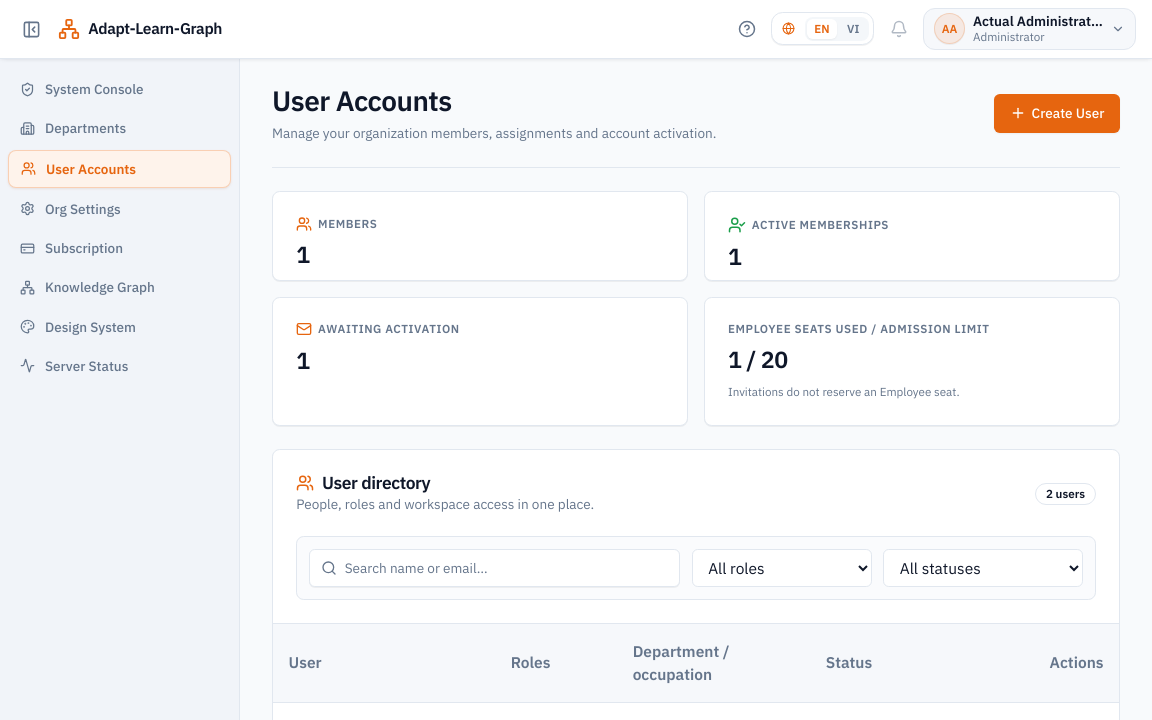
Test: Administrator page ownership › lists real members and invitations with detail, search and status filters
Type "employee@example.test" into the field named "Search users" at [494, 568], box [309,549,680,588]
(page scrolled)
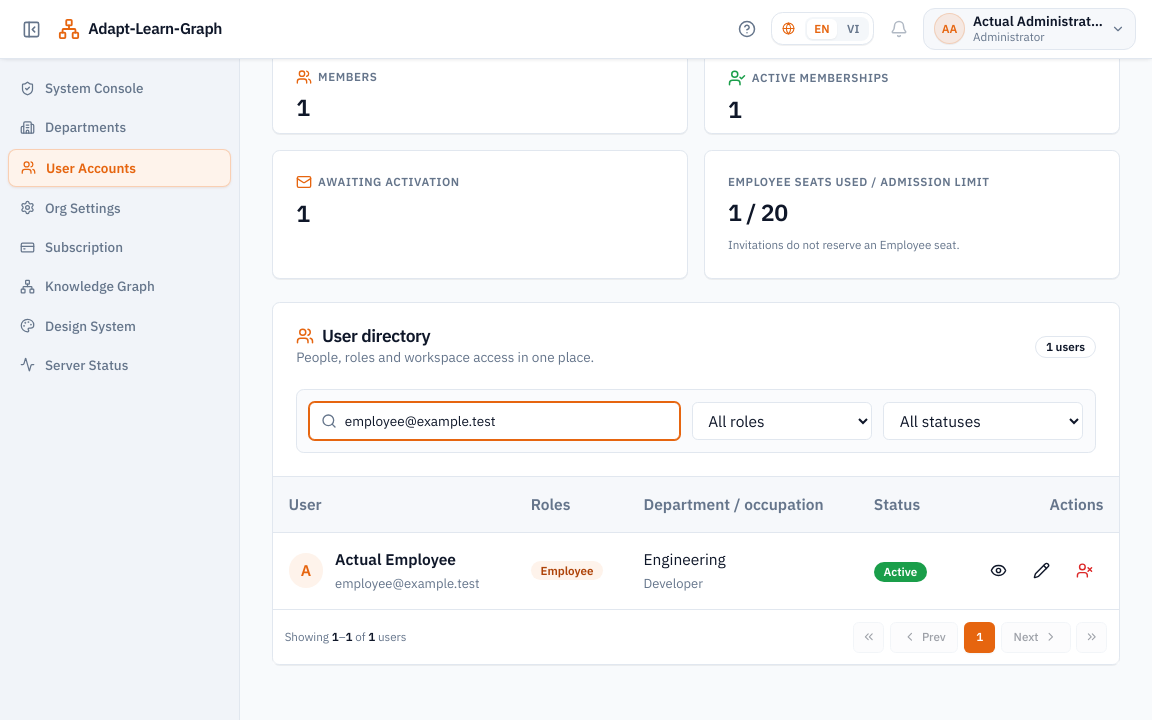
Expected: the text "Pending Person" is not shown
Click the button named "View" at [999, 571], box [980,551,1018,590]
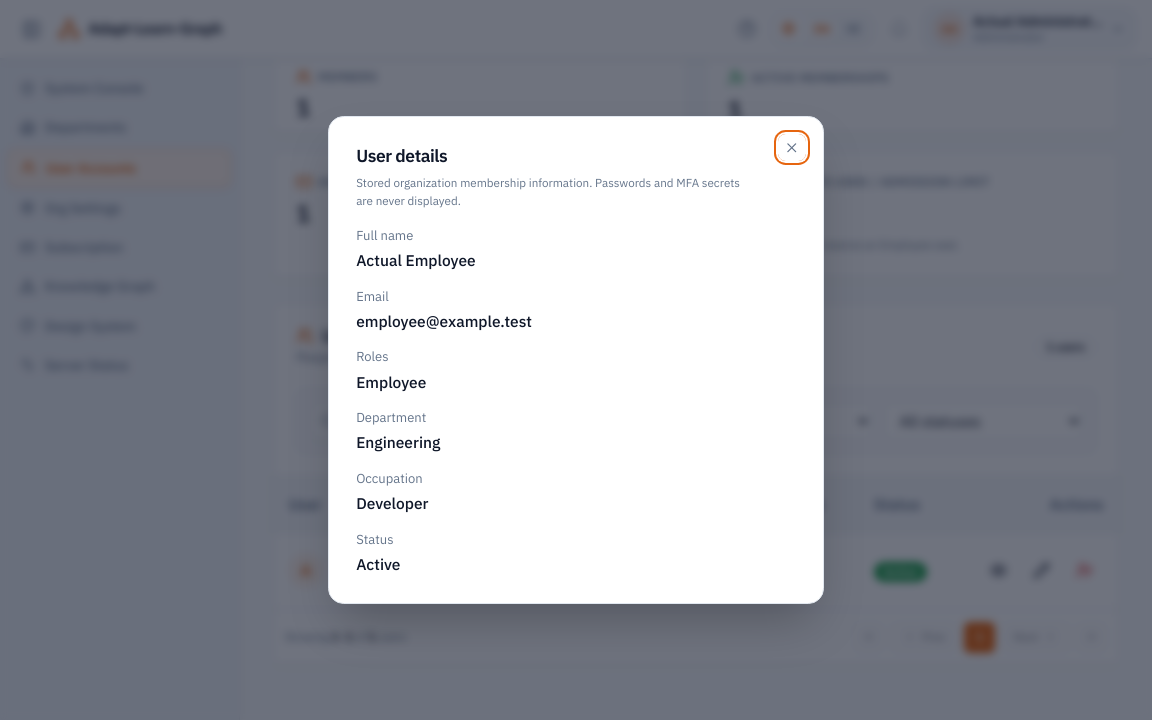
Result: the text "Engineering" is shown at [356,432,440,452]
Result: the text "Developer" is shown at [356,493,428,513]
Click the button named "Close dialog" at [792, 148], box [778,134,806,161]
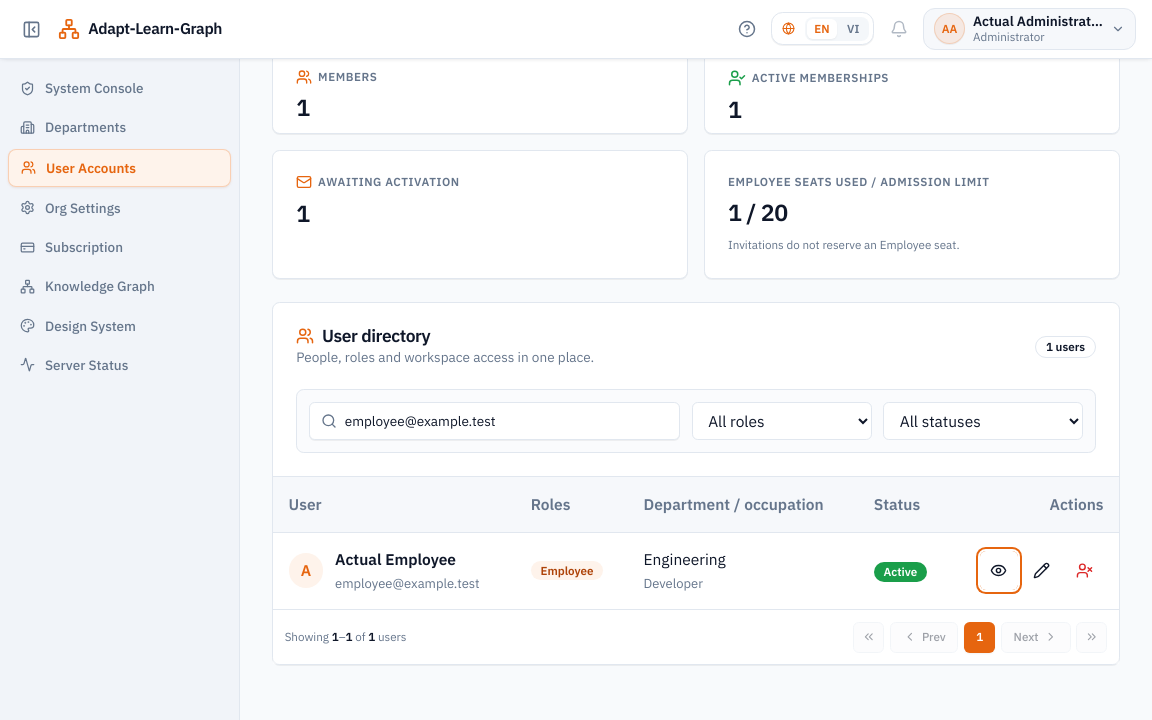
Clear the field named "Search users" at [494, 421], box [309,402,680,440]
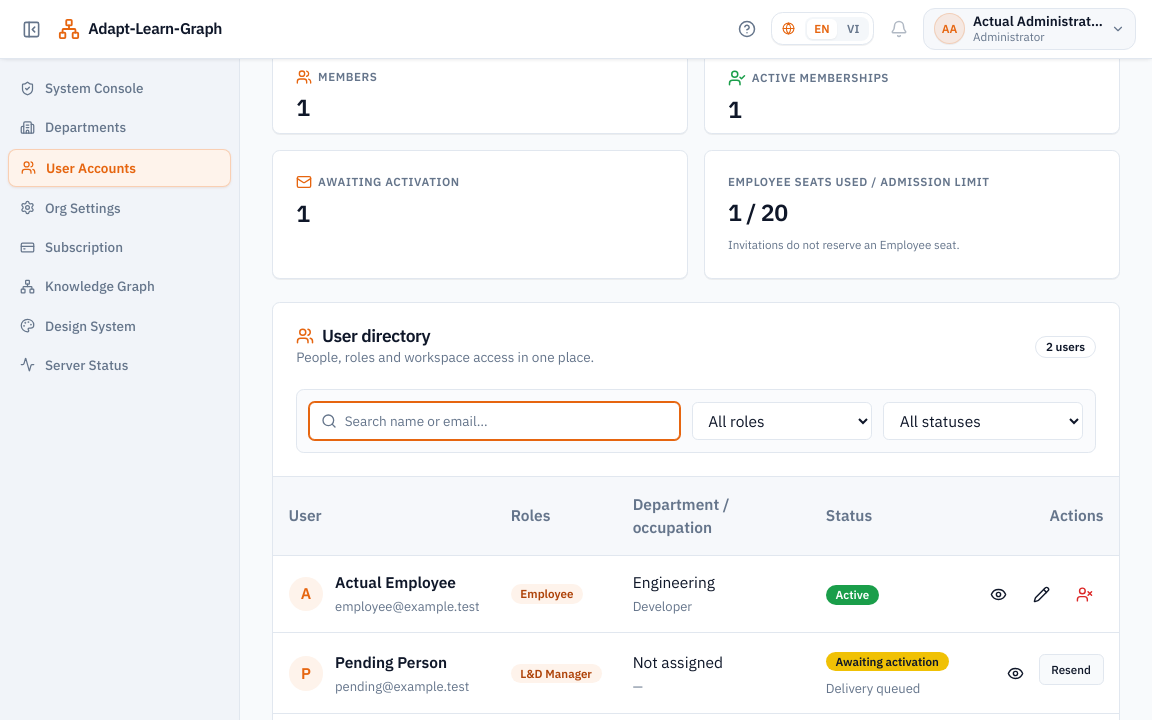
Select "Awaiting activation" in the dropdown named "Filter by status" at [983, 421], box [883,402,1083,440]
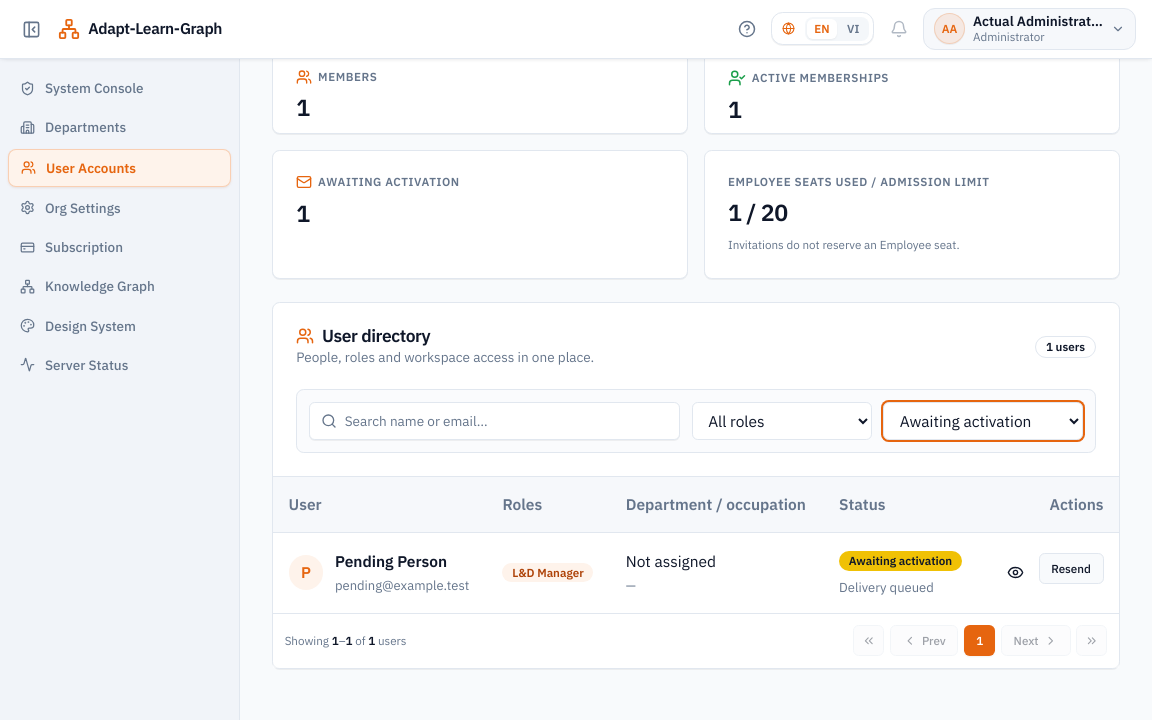
Result: the text "Pending Person" is shown at [335,551,447,571]
Result: the text "Actual Employee" is gone
